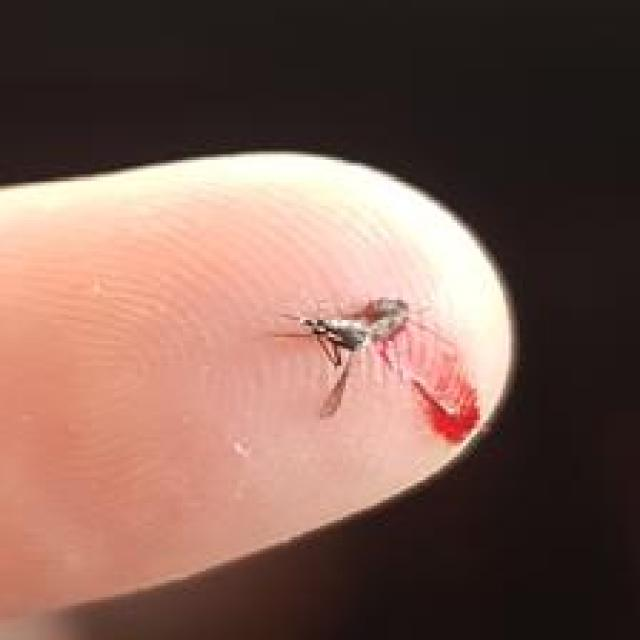Aedes albopictus: (276, 294, 481, 446)
